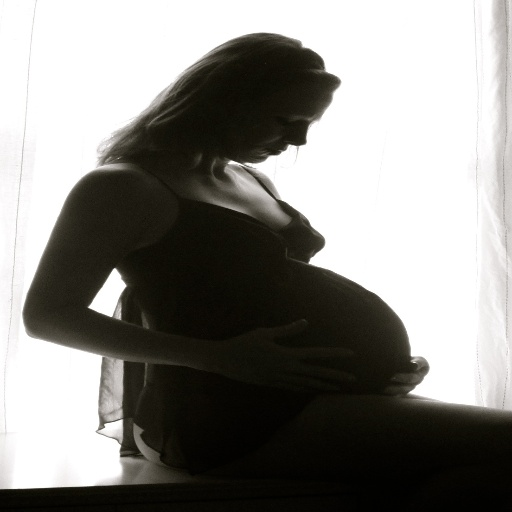hand: (187, 315, 339, 399), (379, 354, 431, 399)
